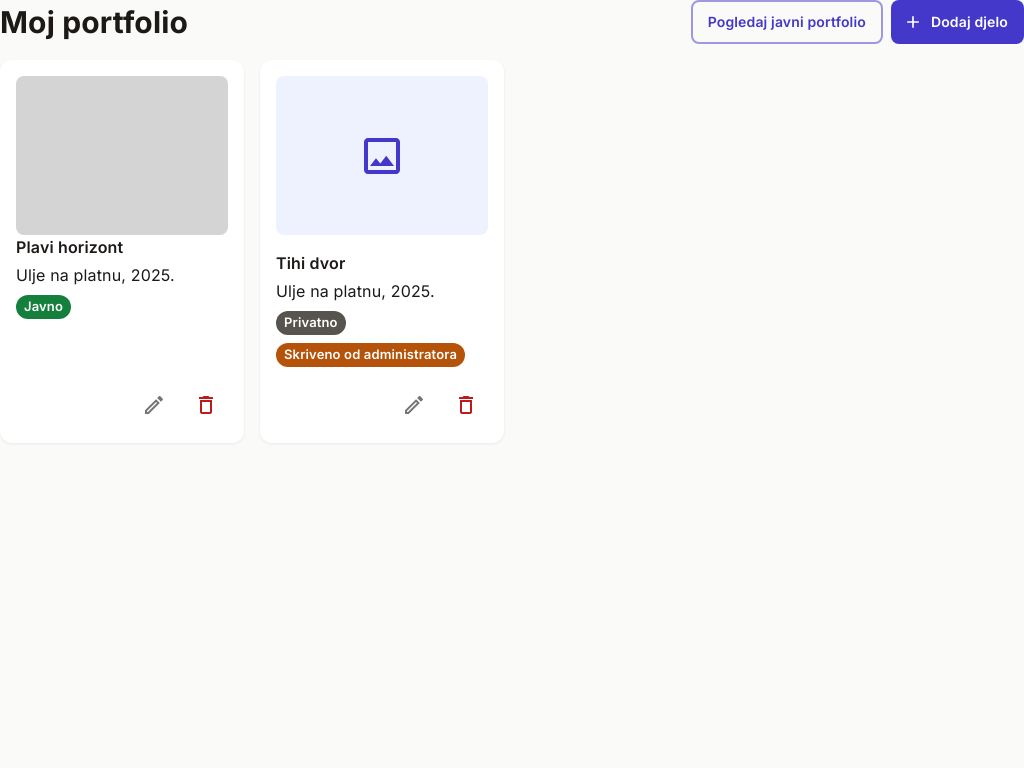
MyPortfolioPage › deletes only after confirmation and notifies on success
Expected: the heading "Plavi horizont" is shown, [16,237,123,257]
Click the button named "Obriši: Plavi horizont" at (206, 405), box [184,383,228,427]
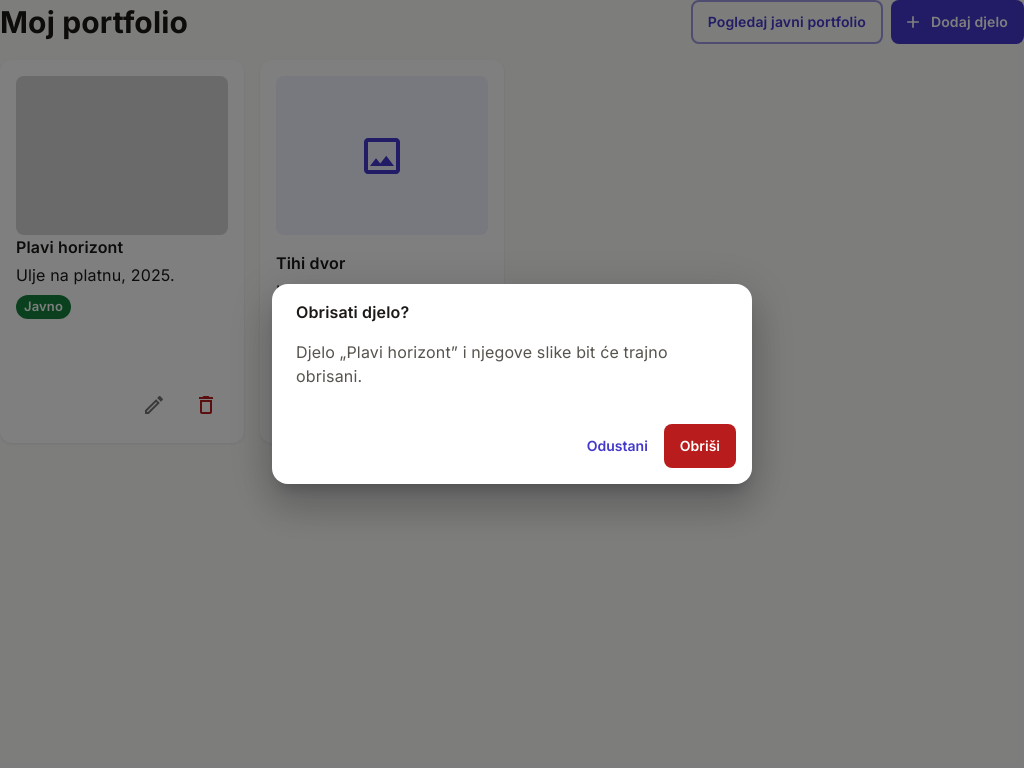
Expected: the dialog shows "Plavi horizont", [296,342,668,386]
Click the button "Obriši" at (700, 446), box [664,424,736,468]
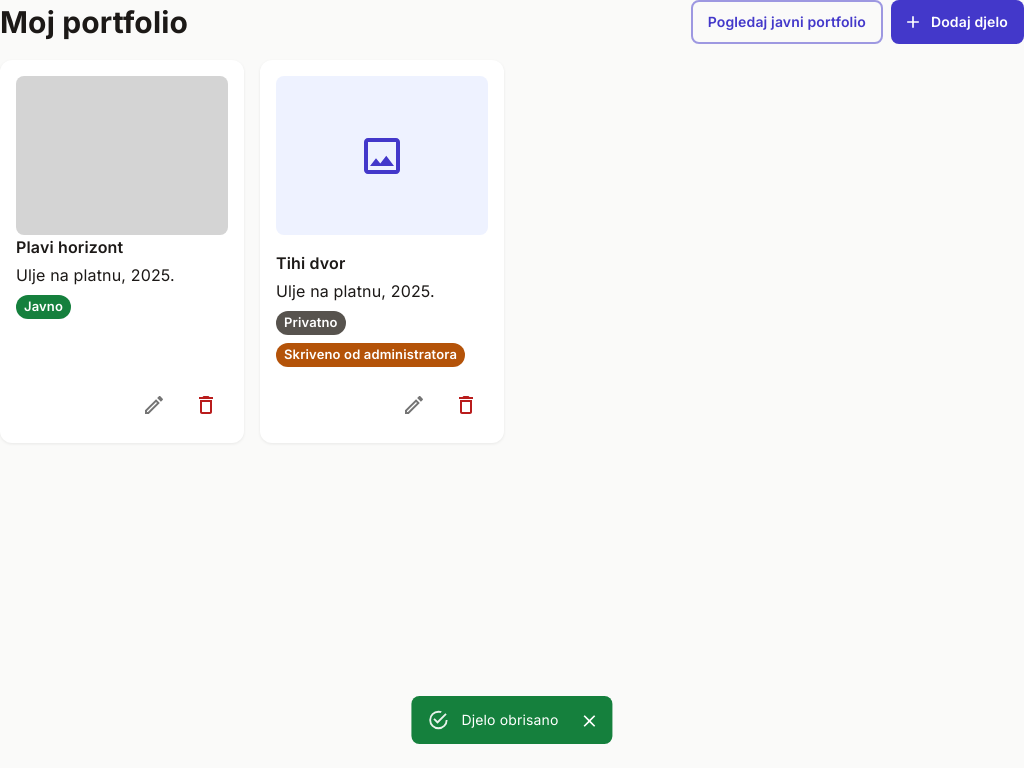
Expected: the text "Djelo obrisano" is shown, [461,711,559,728]
